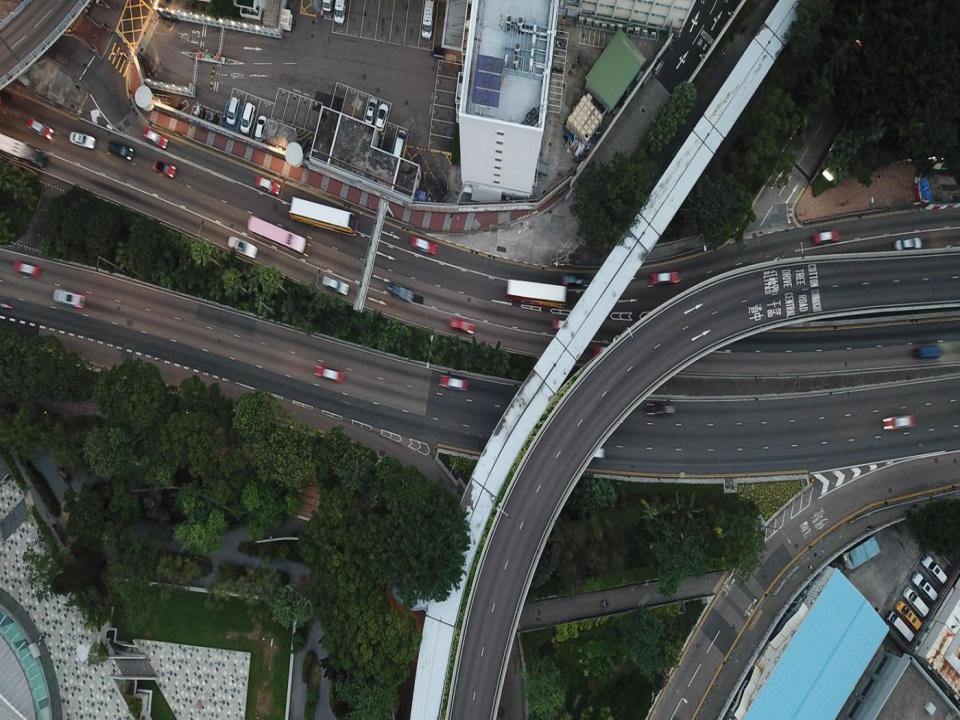bus: (288, 196, 360, 236), (247, 214, 306, 255), (506, 278, 565, 307), (561, 274, 583, 286)
car: (228, 234, 258, 258), (51, 287, 86, 307), (27, 115, 54, 140), (385, 282, 415, 304), (320, 275, 350, 296), (68, 130, 96, 151), (436, 373, 468, 391), (106, 140, 136, 159), (644, 401, 674, 420), (142, 126, 168, 147), (391, 130, 408, 161), (884, 415, 917, 430), (238, 103, 255, 132), (256, 175, 280, 195), (448, 317, 476, 334), (13, 260, 39, 278), (411, 236, 438, 253), (152, 159, 176, 178), (316, 366, 344, 382), (650, 270, 678, 286), (576, 443, 604, 459), (813, 228, 840, 244), (374, 101, 387, 130), (226, 95, 238, 124), (895, 238, 921, 251), (592, 346, 618, 359), (255, 113, 267, 141), (366, 94, 377, 120), (552, 318, 573, 330)
van: (914, 570, 939, 606), (903, 586, 929, 618), (888, 610, 914, 642), (921, 554, 948, 583), (895, 600, 921, 628), (419, 0, 434, 37), (910, 345, 942, 360), (335, 0, 347, 26), (321, 0, 332, 16)
